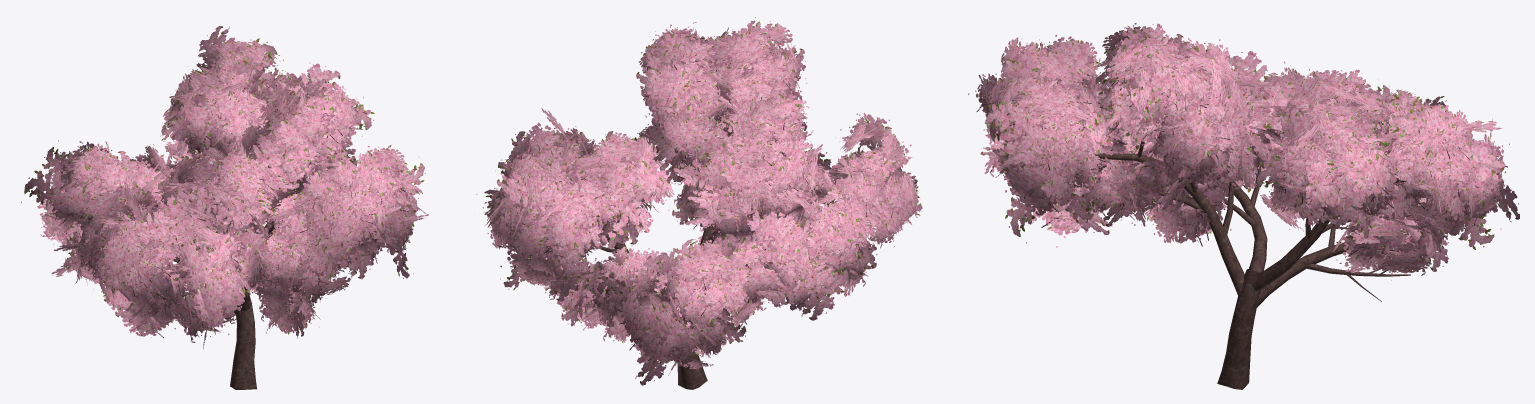
File: Sakura_C.fbx
3 views of the same model, side by side, from view 1: azimuth 30°, elevation 25°; view 2: azimuth 150°, elevation 25°; view 3: azimuth 270°, elevation 25° (orthographic). The views are drawn at different scales.
Visible parts, largest first — view 1: Sakura_C; view 2: Sakura_C; view 3: Sakura_C.
Part boxes in pixels (x1,y1,x2,y2): Sakura_C: (21,26,428,389); Sakura_C: (476,17,922,389); Sakura_C: (968,23,1519,389).
Bounding box in the file's own units: 7.96 × 7.4 × 9.58.
2 materials, 2 textured.
